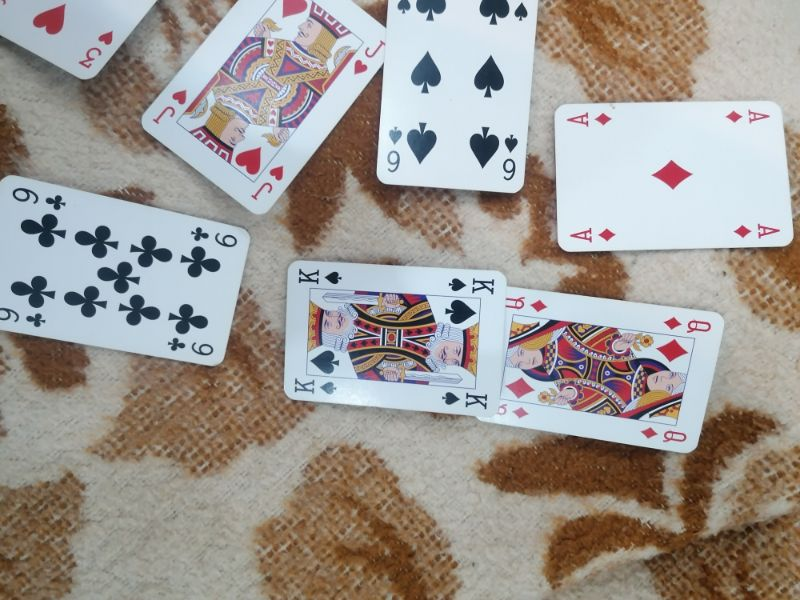3h: (75, 24, 120, 77)
6s: (495, 127, 526, 188), (378, 122, 411, 178)
9c: (5, 182, 71, 216), (162, 329, 222, 363), (185, 221, 243, 253)
Ad: (720, 101, 779, 132), (560, 101, 616, 133), (730, 214, 783, 247), (562, 221, 625, 248)
Jh: (246, 159, 292, 210), (349, 27, 389, 82), (151, 84, 191, 135)
Ks: (437, 382, 490, 418), (292, 259, 349, 291), (443, 268, 500, 300), (287, 371, 345, 400)
Qd: (633, 418, 694, 451), (659, 307, 716, 342), (495, 287, 552, 319)
